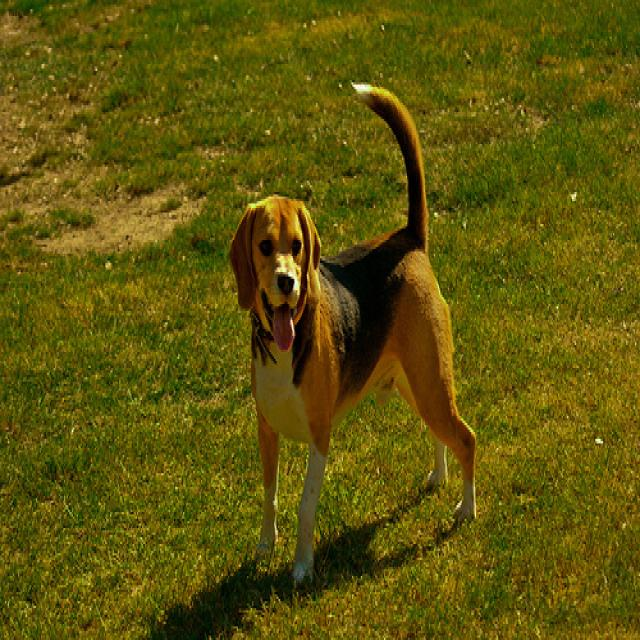dog-beagle: (225, 66, 483, 594)
